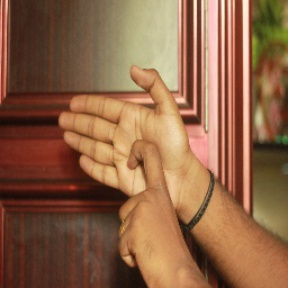R: (54, 61, 194, 258)
